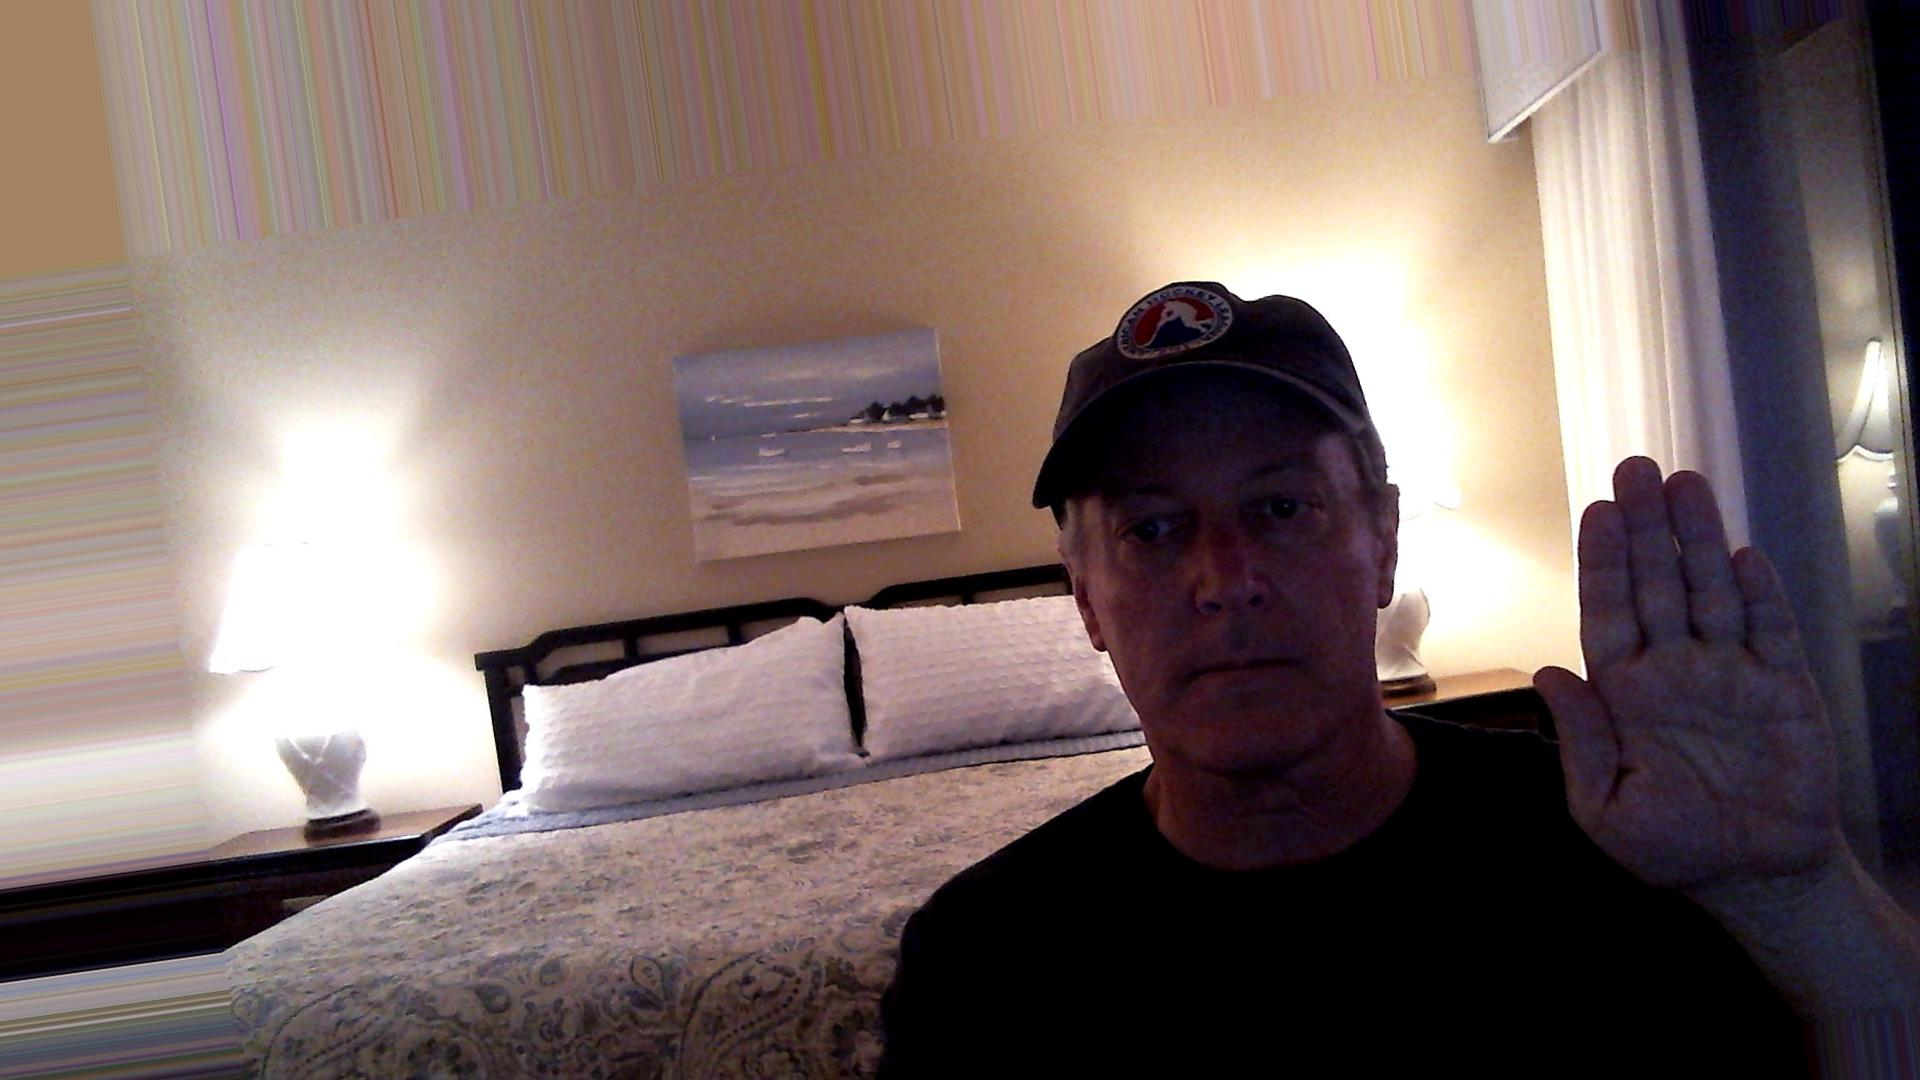Hello: (1523, 433, 1880, 906)
